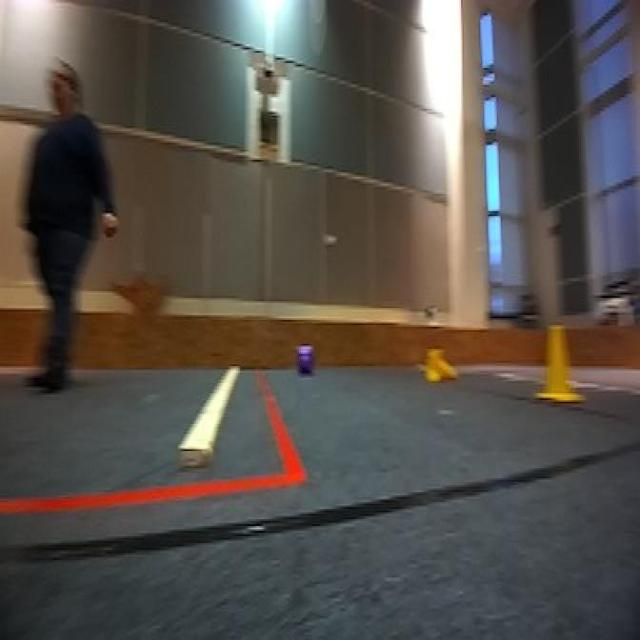frc_cone: (536, 322, 577, 410), (421, 346, 457, 386)
frc_cube: (294, 344, 316, 378)
